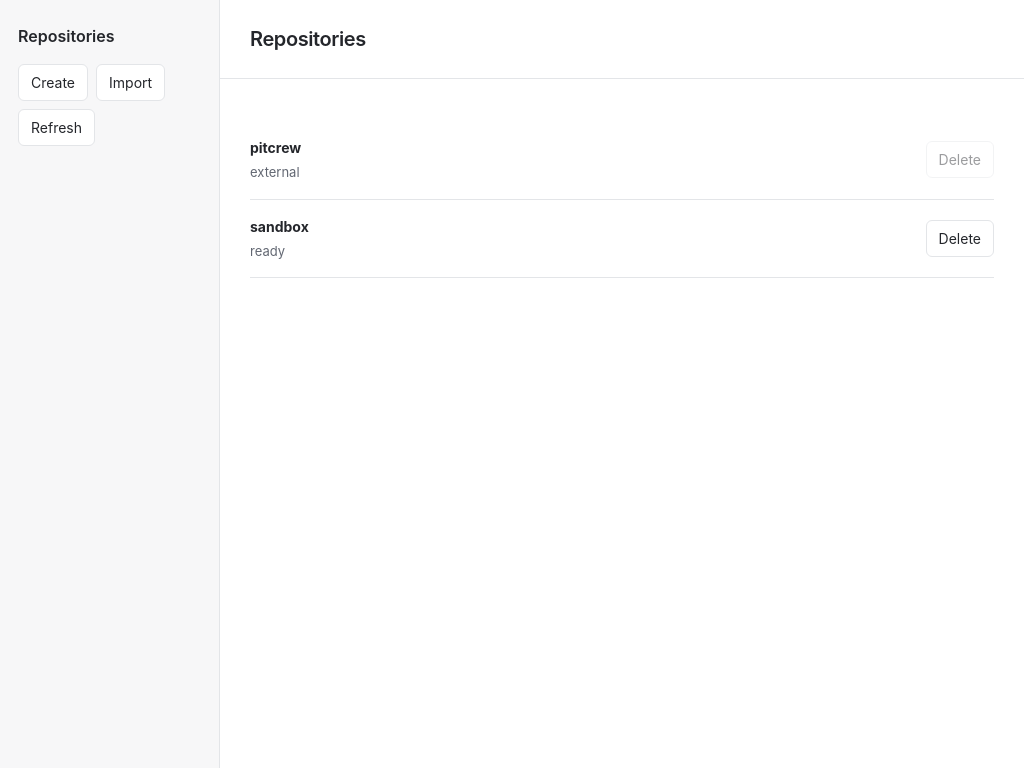
Test: shows failed deletion inside the confirmation dialog and keeps its selected target
Expected: the text "sandbox" is shown, [250, 218, 309, 234]
Click the button with aria-label "Delete sandbox": (960, 238) [926, 220, 994, 257]
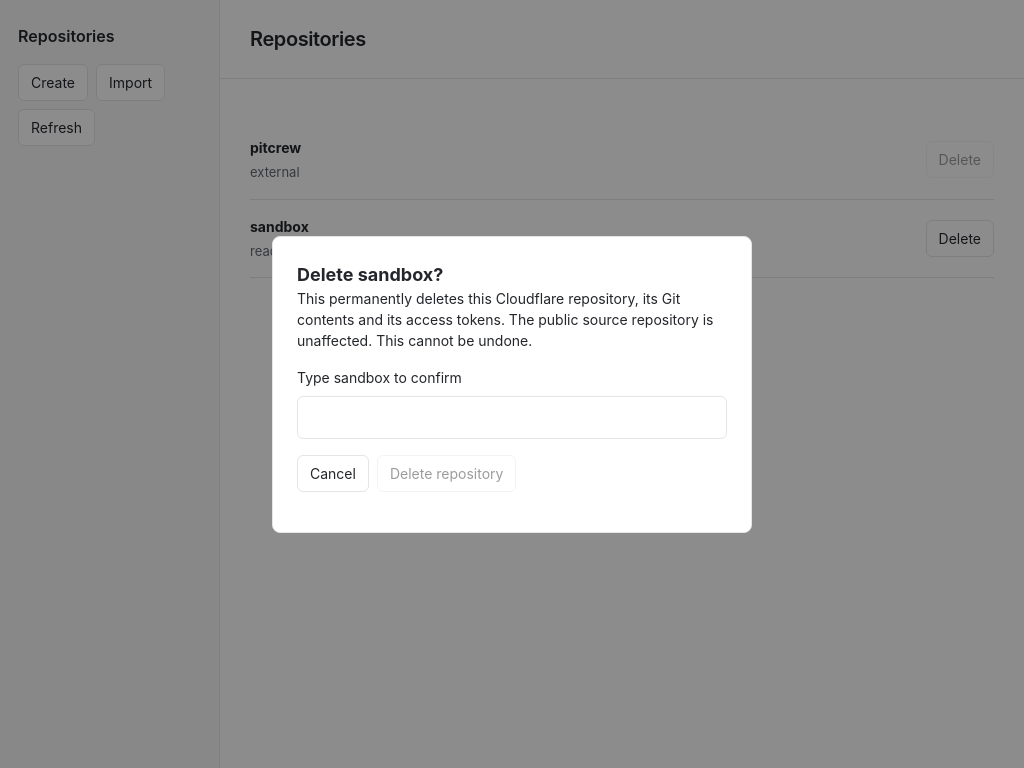
In the field labelled "Type sandbox to confirm": (512, 417) [297, 396, 727, 438], type "sandbox"
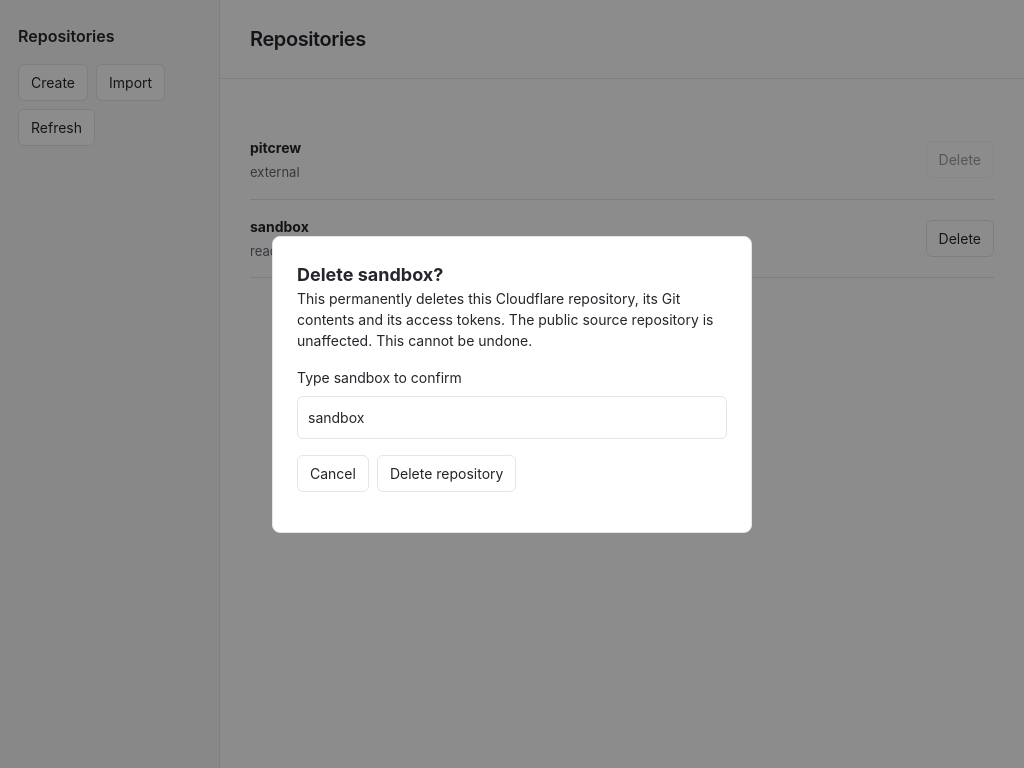
Click the button "Delete repository": (447, 473) [377, 454, 516, 492]
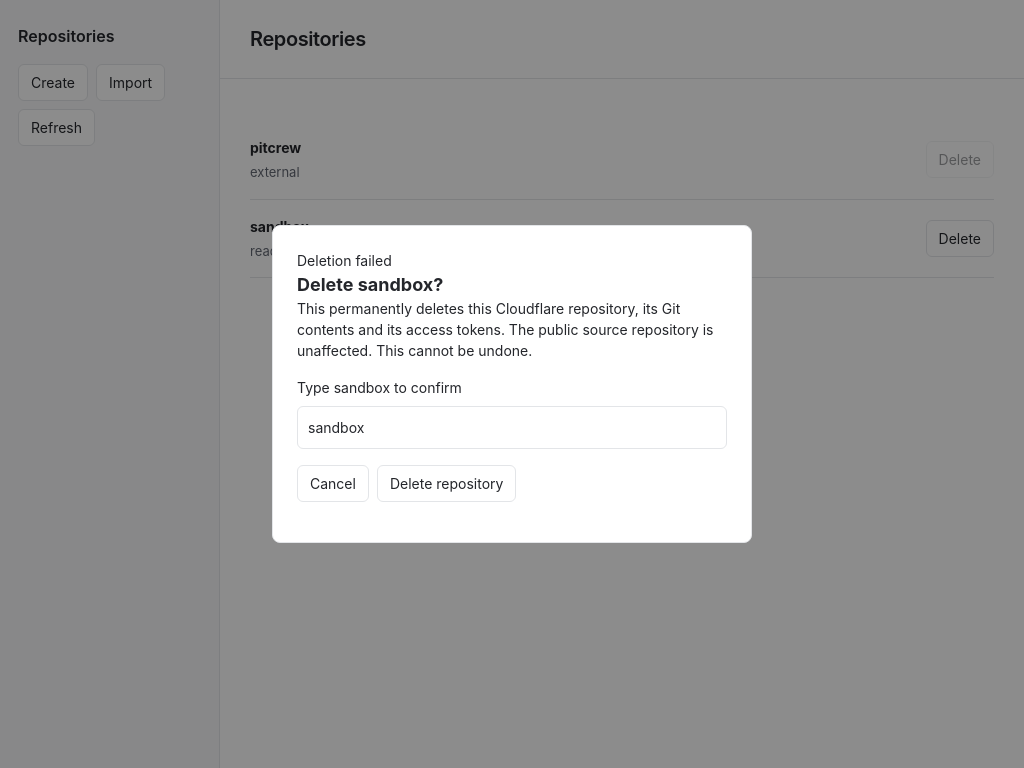
Expected: the dialog shows "sandbox", [358, 274, 433, 295]
Expected: the text "Deletion failed" is shown, [297, 252, 392, 269]
